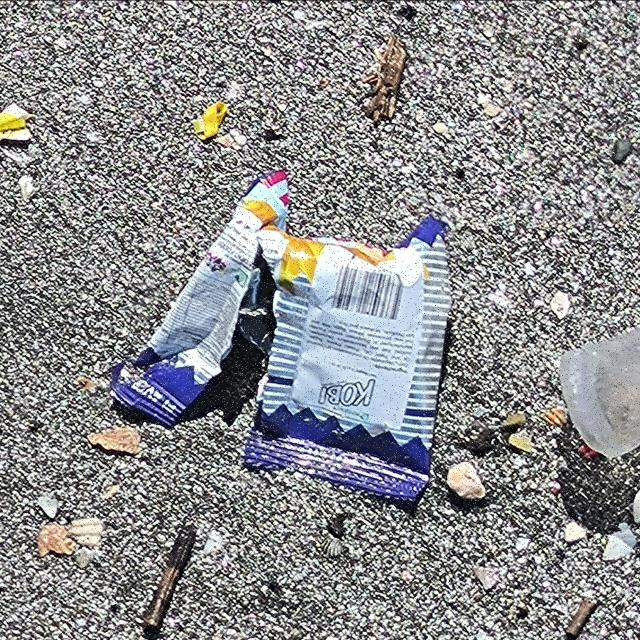plastic_waste: (107, 173, 457, 505)
